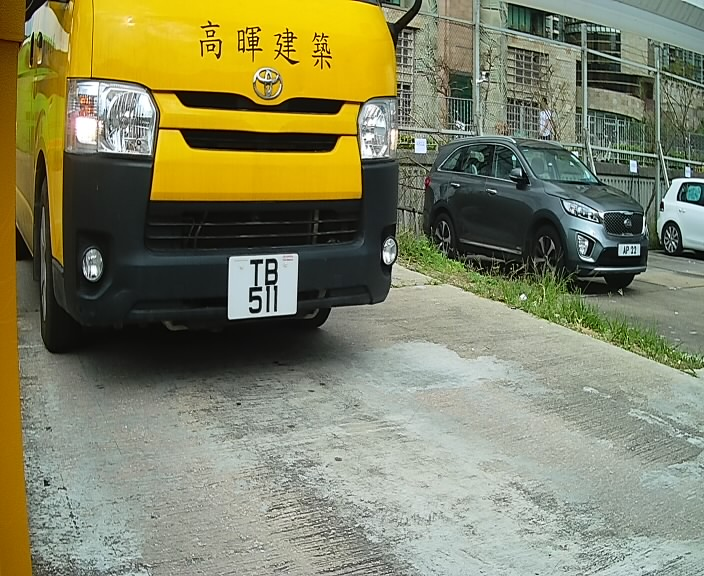Car: (25, 12, 416, 396)
License Plate: (225, 248, 308, 325)
